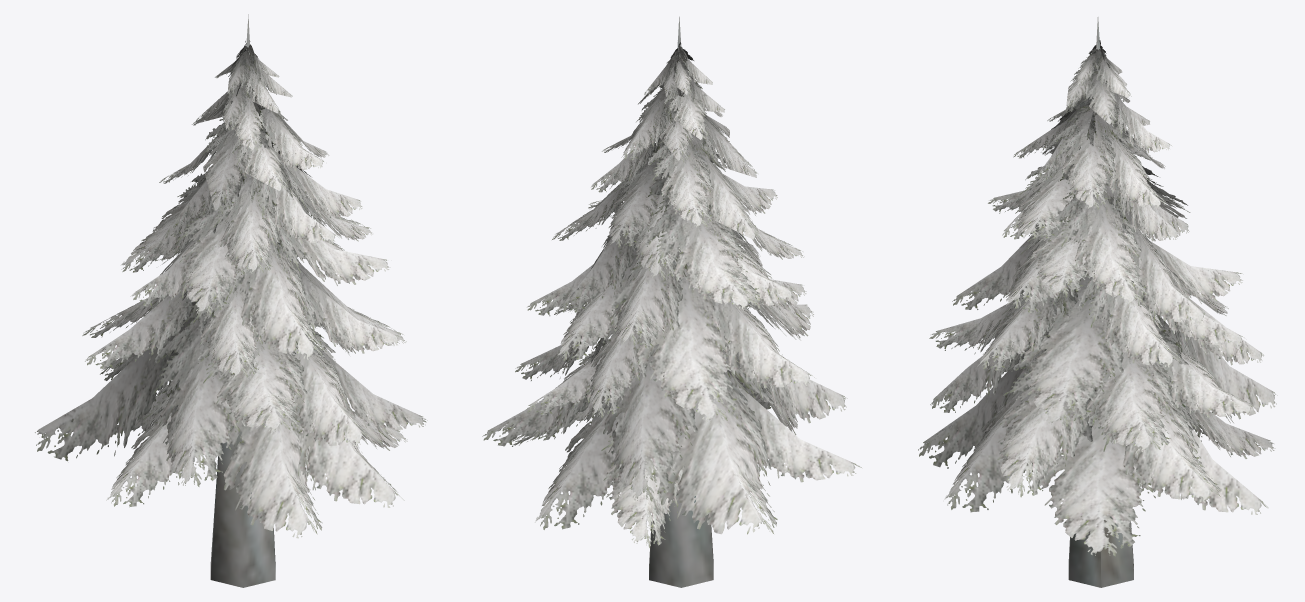
File: tree02.fbx
3 renders of one model, left to right at view 1: azimuth 30°, elevation 25°; view 2: azimuth 150°, elevation 25°; view 3: azimuth 270°, elevation 25°, orthographic.
Parts seen in each view (by area): view 1: tree02; view 2: tree02; view 3: tree02.
Part boxes in pixels (box(x1,y1,x2,y2)): tree02: box(35, 14, 427, 587); tree02: box(482, 16, 861, 587); tree02: box(918, 17, 1277, 587).
Size of the model in its own units: 959 by 1485 by 928.
